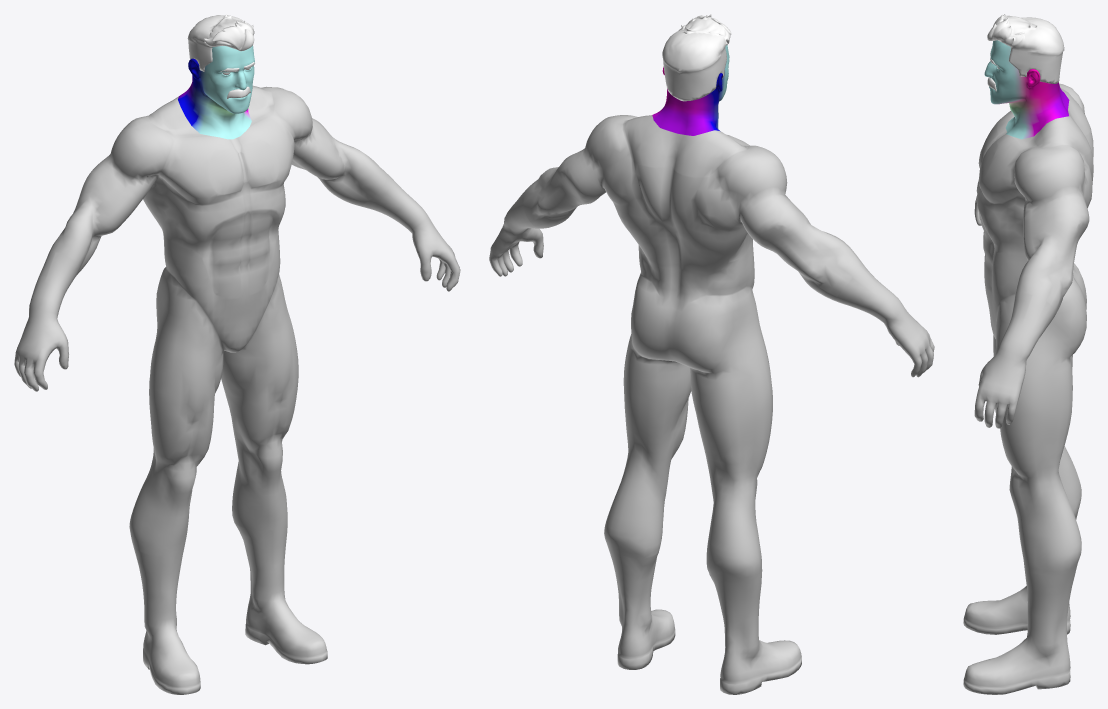
The model's file is YEDEK(BOZUK)(KULLANMA).fbx.
3 renders of one model, left to right at view 1: azimuth 30°, elevation 25°; view 2: azimuth 150°, elevation 25°; view 3: azimuth 270°, elevation 25°, orthographic.
Parts seen in each view (by area): view 1: M_MED_SharpMagnet_LOD0.mo.002; view 2: M_MED_SharpMagnet_LOD0.mo.002; view 3: M_MED_SharpMagnet_LOD0.mo.002.
Boxes of the visible parts, left/top/right/bottom form: M_MED_SharpMagnet_LOD0.mo.002: left=14, top=14, right=460, bottom=694; M_MED_SharpMagnet_LOD0.mo.002: left=489, top=14, right=934, bottom=694; M_MED_SharpMagnet_LOD0.mo.002: left=963, top=14, right=1093, bottom=694.
Bounding box in the file's own units: 119 × 169 × 31.16.
